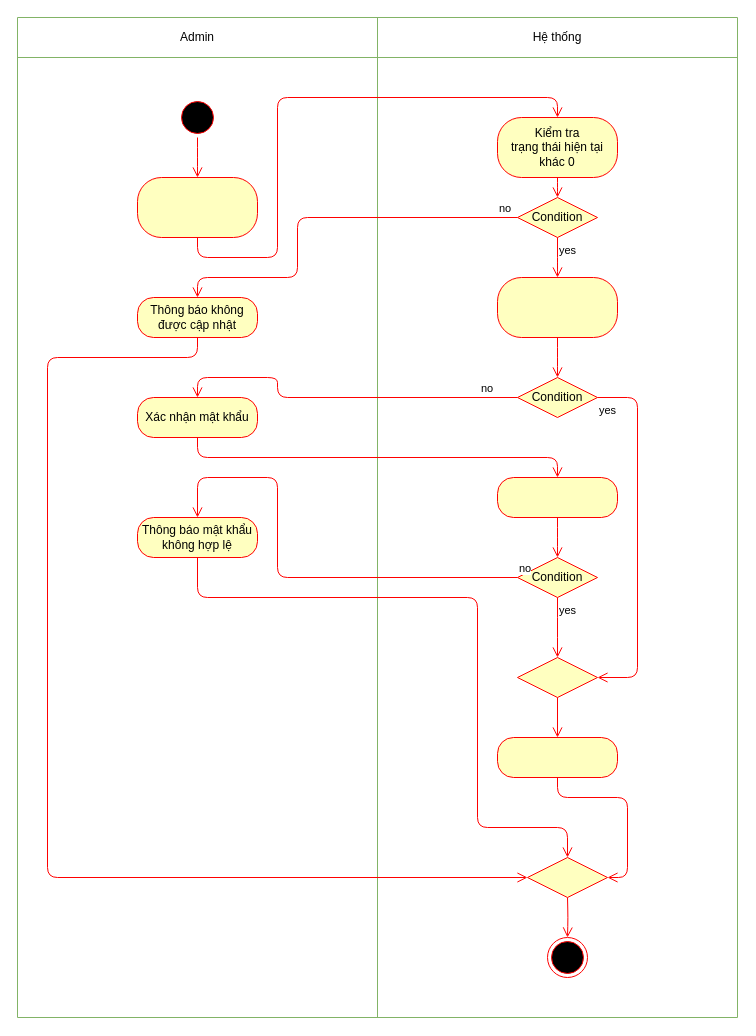
This 756x1036 diagram has some shape labels left out. Here are the shapes that lost their labels. From the top down, the box of each, then its label:
(136, 176, 258, 238): Chọn trạng thái cập nhật
(496, 276, 618, 338): So sánh trạng thái mới lớn hơn trạng thái hiện tại
(496, 476, 618, 518): Kiểm tra mật khẩu hợp lệ
(496, 736, 618, 778): Cập nhật trạng thái mới
